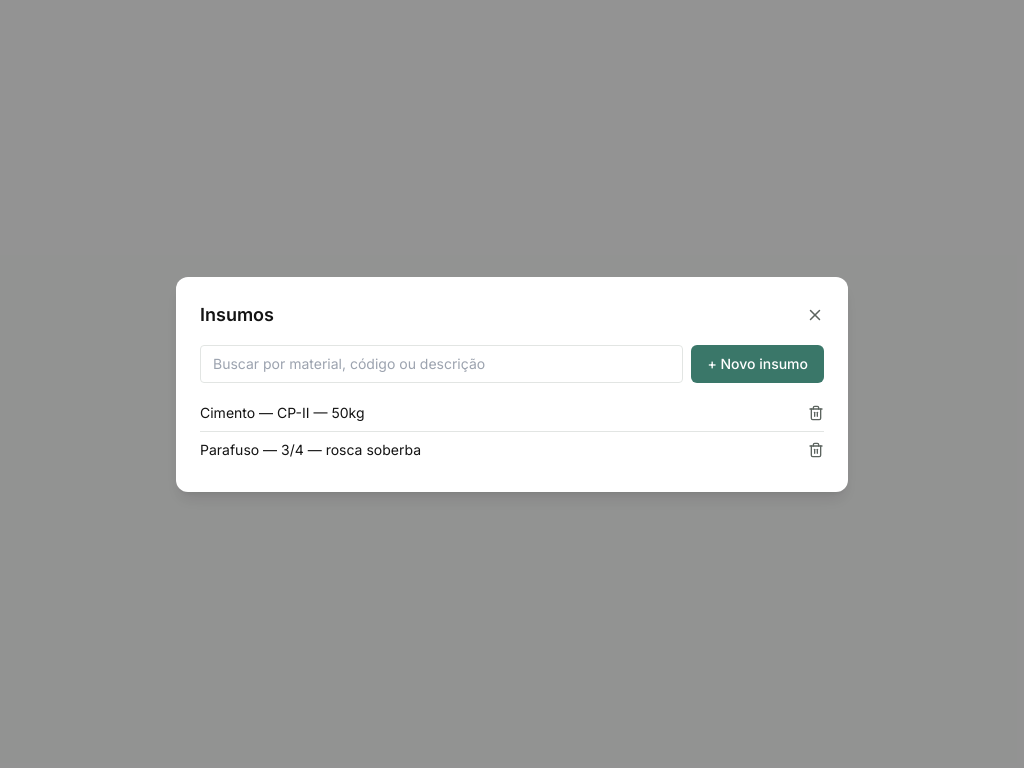
InsumosModal › filtra os insumos pela busca
In the search field with placeholder "Buscar por material, código ou descrição": (442, 364) [200, 344, 683, 382], type "parafuso"
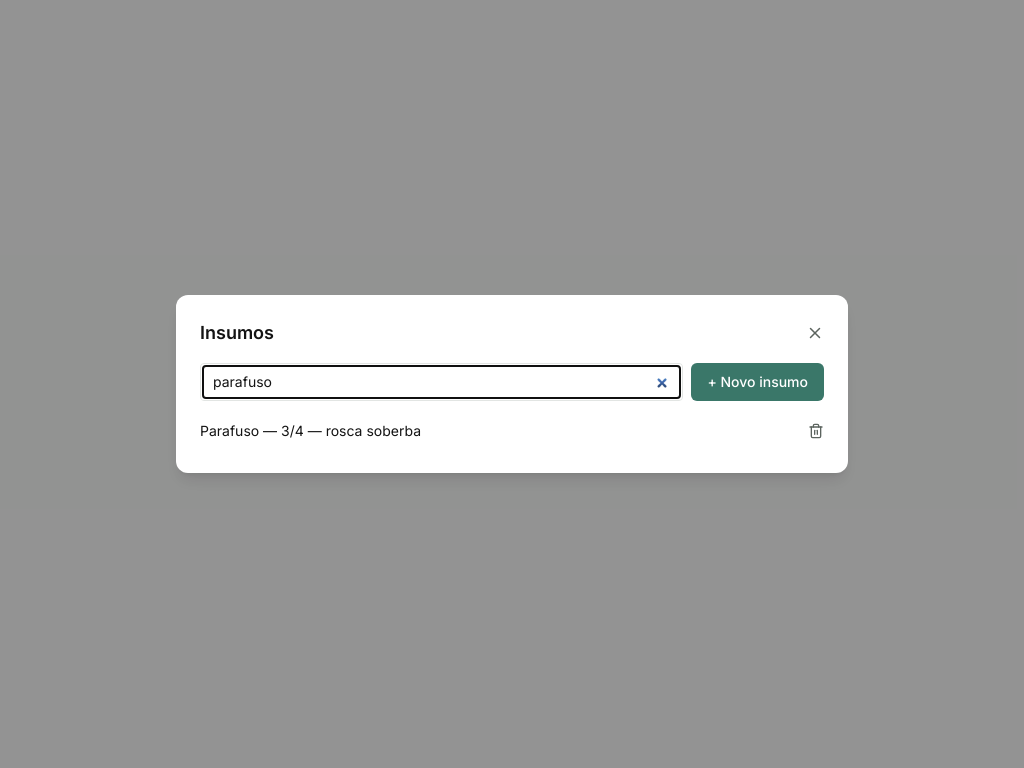
Expected: the text "Parafuso — 3/4 — rosca soberba" is shown, [200, 421, 421, 441]
Result: the text "Cimento — CP-II — 50kg" is gone
